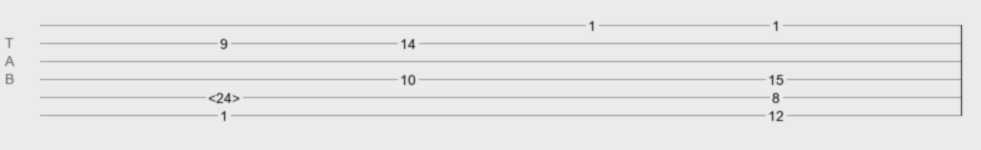1: (220, 108, 228, 118), (588, 18, 596, 28), (772, 18, 780, 28)
10: (400, 72, 416, 82)
12: (768, 108, 784, 118)
14: (400, 36, 416, 46)
15: (768, 72, 784, 82)
8: (772, 90, 780, 100)
9: (220, 36, 228, 46)
harmonic: (208, 90, 240, 100)
